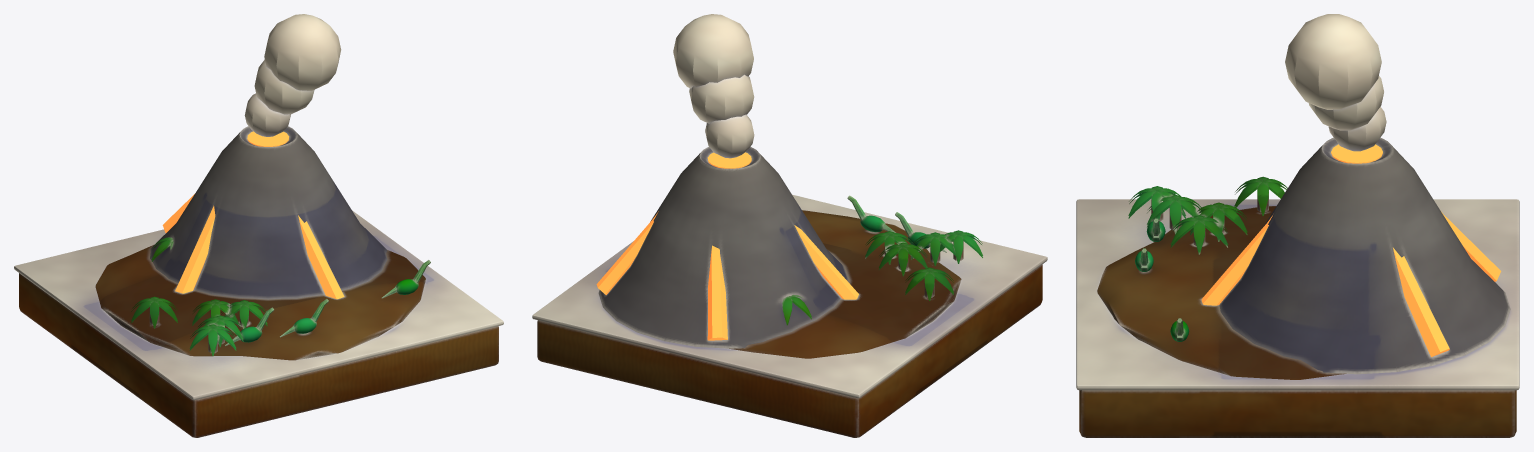
Rendered from volcano_diorama.glb.
3 renders of one model, left to right at view 1: azimuth 30°, elevation 25°; view 2: azimuth 150°, elevation 25°; view 3: azimuth 270°, elevation 25°, orthographic. The views are drawn at different scales.
Parts seen in each view (by area): view 1: SM_VolcanoDiorama; view 2: SM_VolcanoDiorama; view 3: SM_VolcanoDiorama.
Part boxes in pixels (x1=…): SM_VolcanoDiorama: x1=14, y1=14, x2=503, y2=437; SM_VolcanoDiorama: x1=532, y1=14, x2=1047, y2=437; SM_VolcanoDiorama: x1=1076, y1=14, x2=1519, y2=437.
Size of what is drawn, in the model's own units: 3.75 by 3.41 by 3.75.
Materials: 2 (1 with a texture image).
